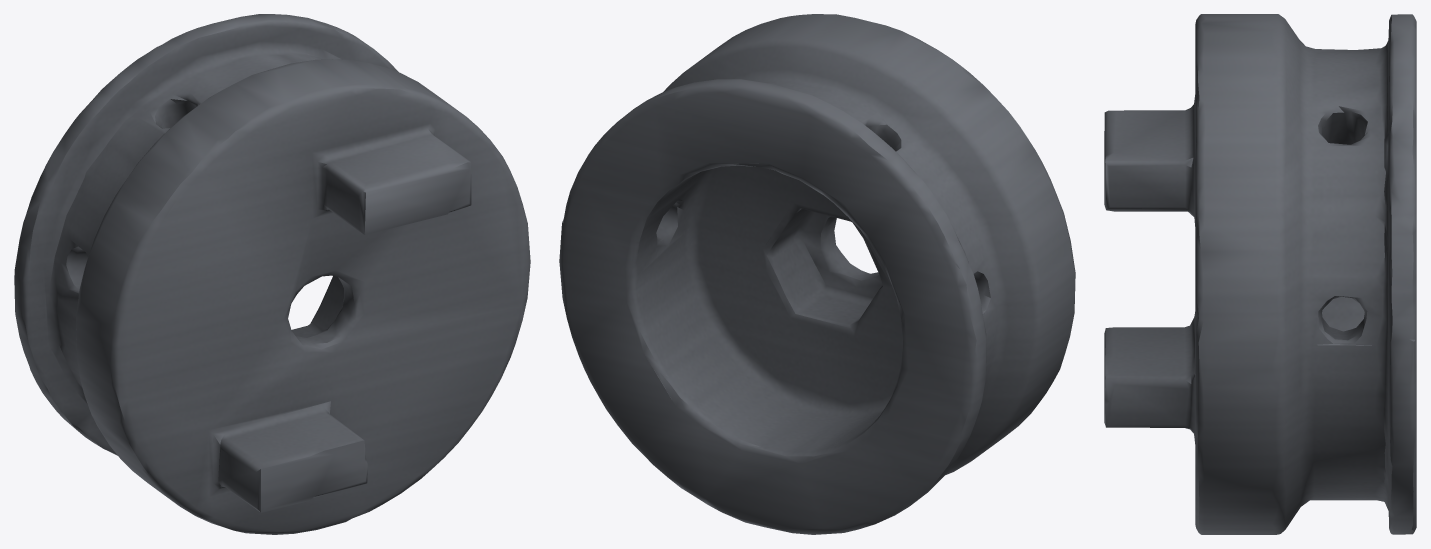
File: right_elbow_outword.glb
3 views of the same model, side by side, from view 1: azimuth 30°, elevation 25°; view 2: azimuth 150°, elevation 25°; view 3: azimuth 270°, elevation 25° (orthographic). The views are drawn at different scales.
Parts seen in each view (by area): view 1: right_elbow_outword; view 2: right_elbow_outword; view 3: right_elbow_outword.
Part boxes in pixels (left/top/right/bottom): right_elbow_outword: left=14, top=14, right=530, bottom=534; right_elbow_outword: left=559, top=14, right=1075, bottom=534; right_elbow_outword: left=1104, top=14, right=1416, bottom=534.
Bounding box in the file's own units: 0.0383 × 0.0383 × 0.023.
1 material, 1 textured.
